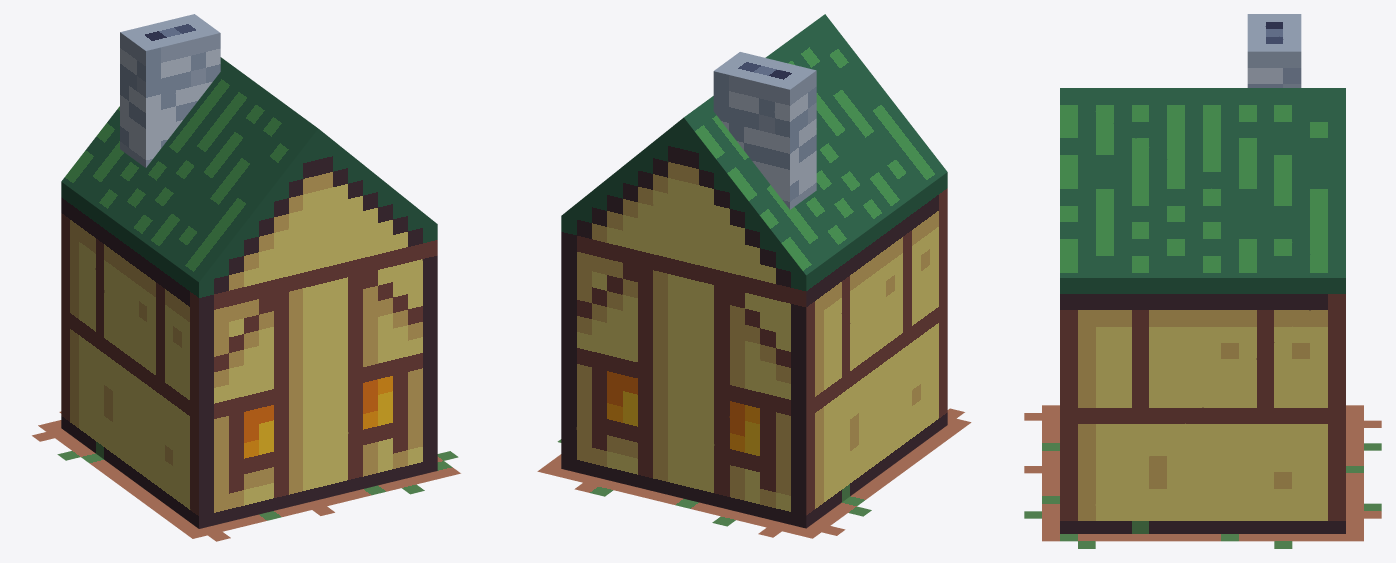
The model's file is block7.gltf.
3 renders of one model, left to right at view 1: azimuth 30°, elevation 25°; view 2: azimuth 150°, elevation 25°; view 3: azimuth 270°, elevation 25°, orthographic. The views are drawn at different scales.
Visible parts, largest first — view 1: cuboid; view 2: cuboid; view 3: cuboid.
Part boxes in pixels (bbox=[...]): cuboid: bbox=[32, 14, 460, 541]; cuboid: bbox=[537, 14, 971, 538]; cuboid: bbox=[1024, 14, 1381, 548].
Size of the model in its own units: 1.25 by 1.62 by 1.25.
1 material, 1 textured.
